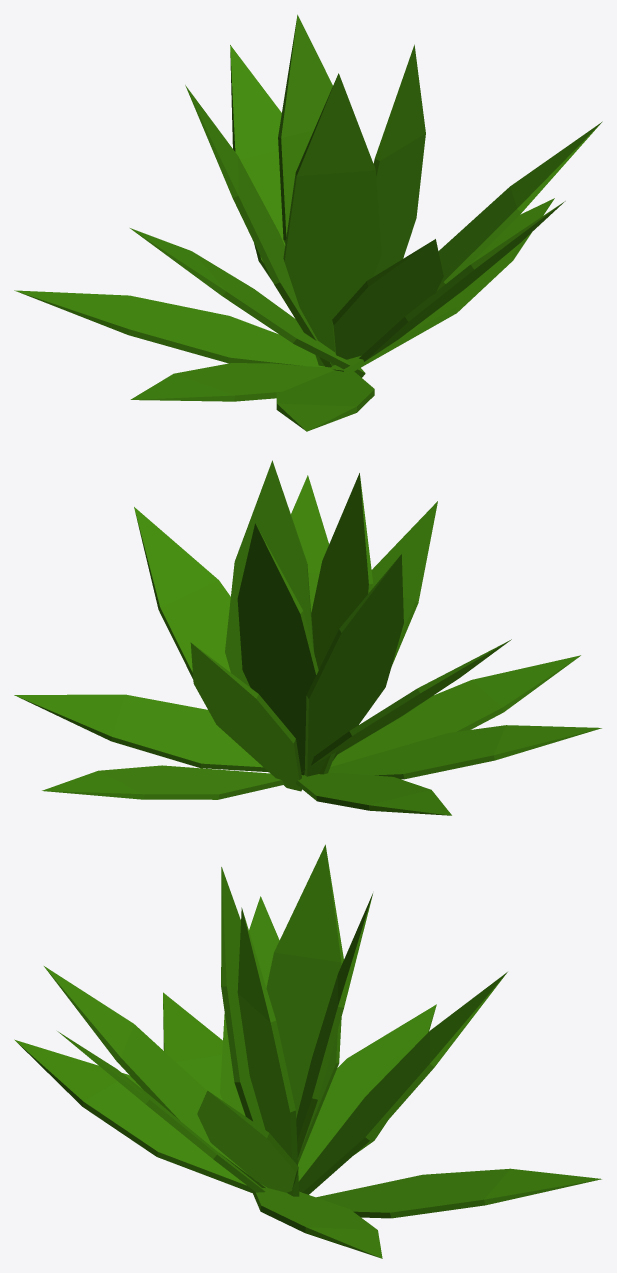
Rendered from Plant_f_02.fbx.
3 views of the same model, one above another, from view 1: azimuth 30°, elevation 25°; view 2: azimuth 150°, elevation 25°; view 3: azimuth 270°, elevation 25° (orthographic). The views are drawn at different scales.
Parts seen in each view (by area): view 1: Plant_f_02_LOD0; view 2: Plant_f_02_LOD0; view 3: Plant_f_02_LOD0.
Part boxes in pixels (x1,y1,x2,y2): Plant_f_02_LOD0: (14,14,602,431); Plant_f_02_LOD0: (14,460,601,815); Plant_f_02_LOD0: (14,844,601,1258).
Size of what is drawn, in the model's own units: 20.91 by 12.48 by 20.42.
